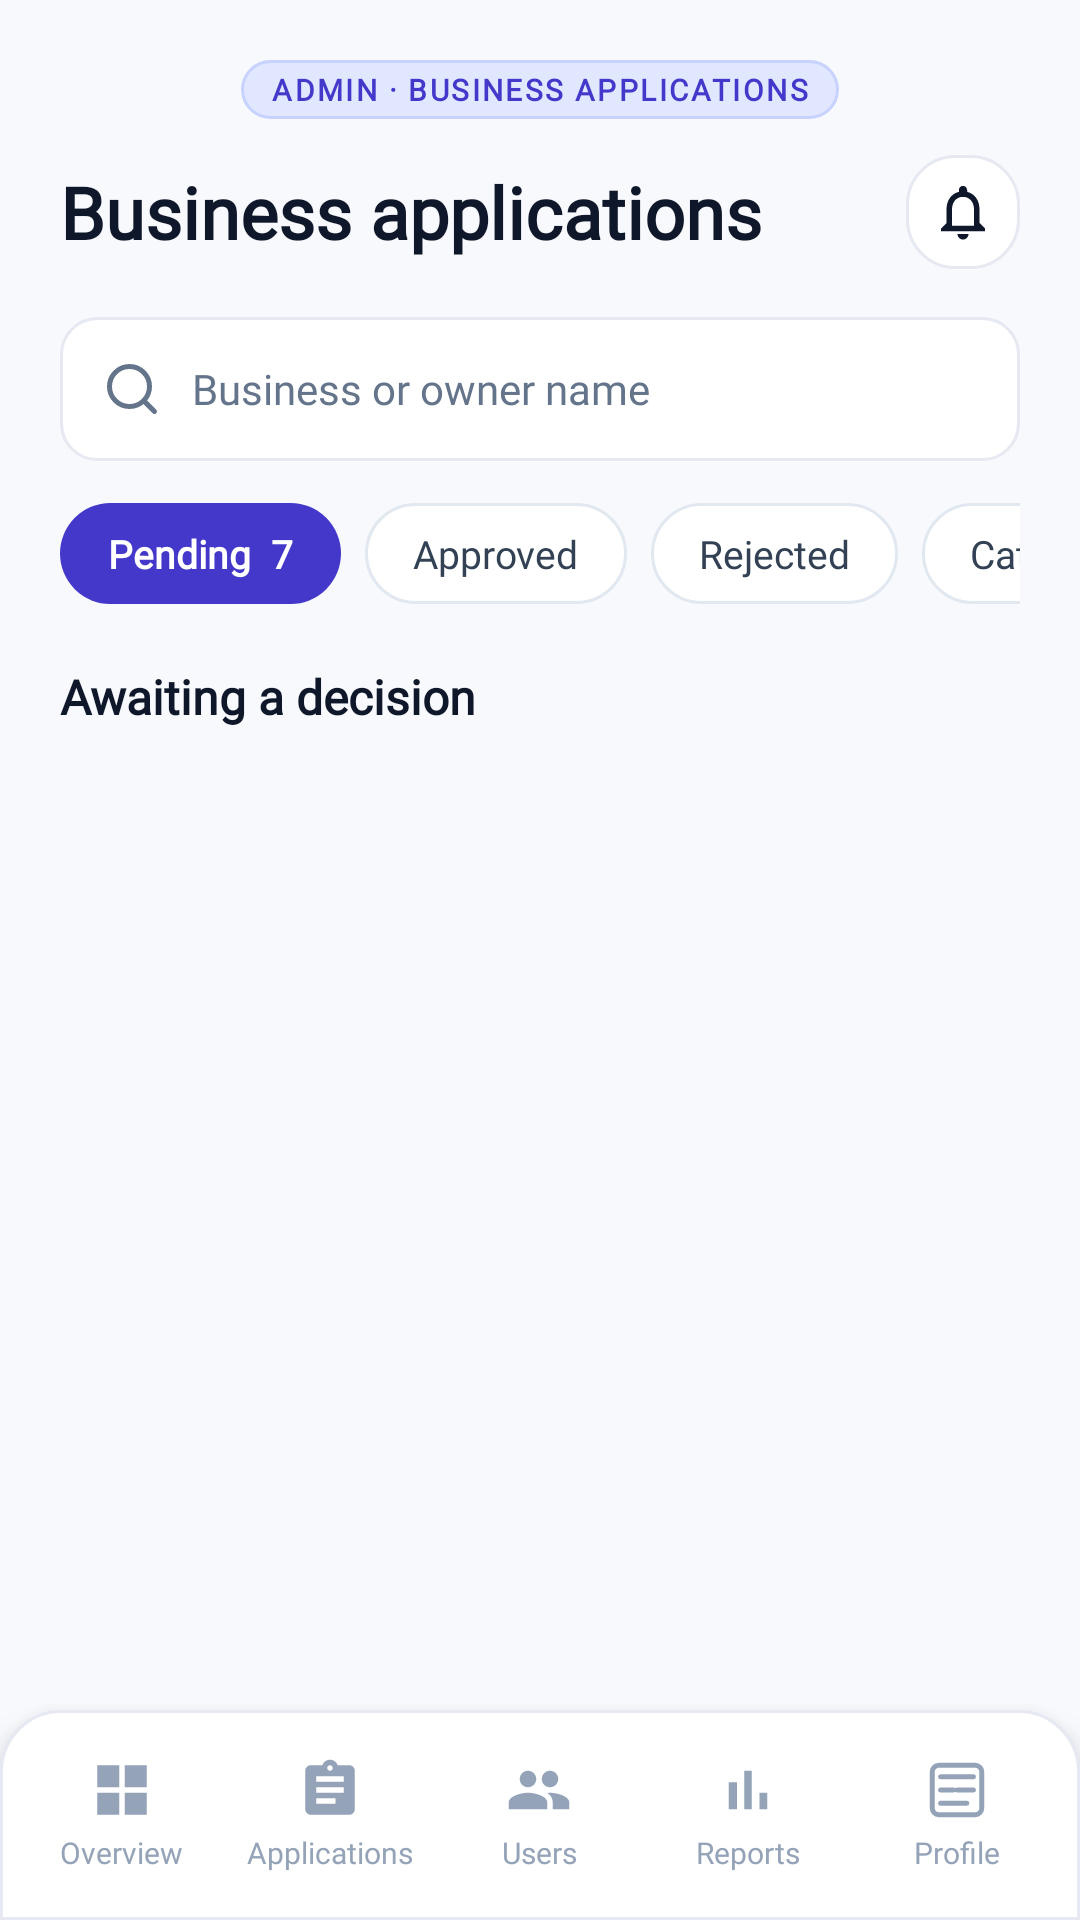

Where icons sit on this 1080 x 1920 app screen, as detection(x1, y1, x2, y2):
Notifications: detection(941, 186, 985, 240)
search: detection(107, 364, 157, 414)
